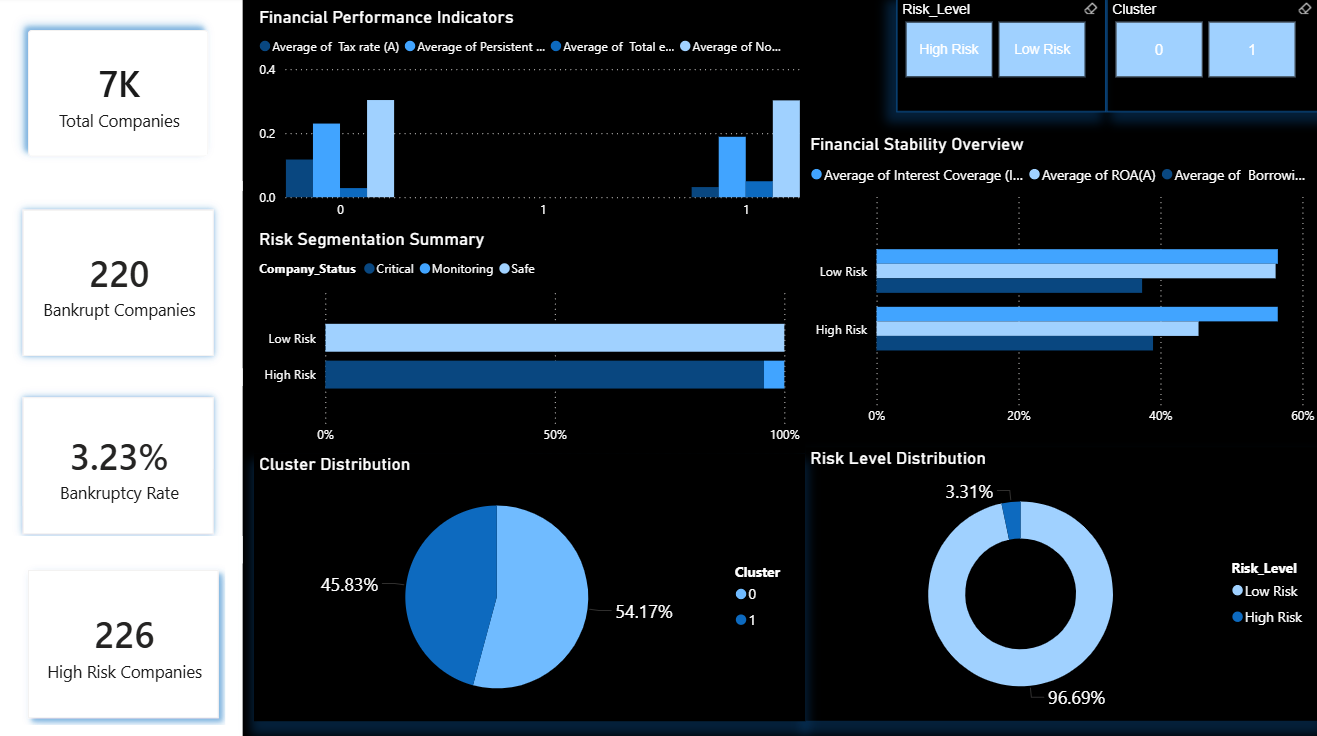

This screenshot's page, from the dashboard's own definition file:
{"tool":"powerbi","page":{"name":"Page 1","canvas":[1280,720],"ordinal":0},"visuals":[{"type":"donutChart","title":"Risk Level Distribution","fields":{"Category":["BankruptcyData.Risk_Level"],"Y":["CountNonNull(BankruptcyData.Risk_Level)"]},"box":[783,435.5,497.1,264.2],"z":0},{"type":"cardVisual","fields":{"Data":["BankruptcyData.Total Companies"]},"box":[0,0,240.1,188.2],"z":1000},{"type":"cardVisual","fields":{"Data":["BankruptcyData.Bankruptcy Rate"]},"box":[0,359.5,240.1,188.2],"z":2000},{"type":"cardVisual","fields":{"Data":["BankruptcyData.High Risk Companies"]},"box":[0,521.2,240.1,199.1],"z":3000},{"type":"cardVisual","fields":{"Data":["BankruptcyData.Bankrupt Companies"]},"box":[0,178.6,240.1,197.9],"z":4000},{"type":"pieChart","title":"Cluster Distribution","fields":{"Category":["BankruptcyData.Cluster"],"Y":["CountNonNull(BankruptcyData.Cluster)"]},"box":[250.9,441.6,532,258.2],"z":5000},{"type":"hundredPercentStackedBarChart","title":"Risk Segmentation Summary","fields":{"Y":["CountNonNull(BankruptcyData.Company_Index)"],"Series":["BankruptcyData.Company_Status"],"Category":["BankruptcyData.Risk_Level"]},"box":[250.9,224.4,532,217.2],"z":6000},{"type":"ChicletSlicer1448559807354","title":"Cluster","fields":{"Category":["BankruptcyData.Cluster"]},"box":[1073.7,0,206.3,112.2],"z":7000},{"type":"ChicletSlicer1448559807354","fields":{"Category":["BankruptcyData.Risk_Level"]},"box":[871.1,0,202.7,112.2],"z":8000},{"type":"clusteredColumnChart","title":"Financial Performance Indicators","fields":{"Category":["BankruptcyData.Bankrupt?"],"Y":["Avg(BankruptcyData. Tax rate (A))","Avg(BankruptcyData.Persistent EPS in Last Four Seasons)","Avg(BankruptcyData. Total expense/Assets)","Avg(BankruptcyData.Non-industry income/revenue)"]},"box":[250.9,9.7,532,214.7],"z":9000},{"type":"clusteredBarChart","title":"Financial Stability Overview","fields":{"Category":["BankruptcyData.Risk_Level"],"Y":["Avg(BankruptcyData.Interest Coverage (Interest expense to EBIT))","Avg(BankruptcyData.ROA(A))","Avg(BankruptcyData. Borrowing dependency)"]},"box":[783,132.7,497.1,290.8],"z":11000}]}

Visuals, with their boxes in screenshot pixels (x1, y1, x2, y2), scaled from the page's 1280x720 canvas onto the 1317x736 screenshot:
"Risk Level Distribution" donutChart: x1=806, y1=445, x2=1316, y2=715
cardVisual - BankruptcyData.Total Companies: x1=0, y1=0, x2=247, y2=192
cardVisual - BankruptcyData.Bankruptcy Rate: x1=0, y1=367, x2=247, y2=560
cardVisual - BankruptcyData.High Risk Companies: x1=0, y1=533, x2=247, y2=735
cardVisual - BankruptcyData.Bankrupt Companies: x1=0, y1=183, x2=247, y2=385
"Cluster Distribution" pieChart: x1=258, y1=451, x2=806, y2=715
"Risk Segmentation Summary" hundredPercentStackedBarChart: x1=258, y1=229, x2=806, y2=451
"Cluster" ChicletSlicer1448559807354: x1=1105, y1=0, x2=1316, y2=115
ChicletSlicer1448559807354 - BankruptcyData.Risk_Level: x1=896, y1=0, x2=1105, y2=115
"Financial Performance Indicators" clusteredColumnChart: x1=258, y1=10, x2=806, y2=229
"Financial Stability Overview" clusteredBarChart: x1=806, y1=136, x2=1316, y2=433
